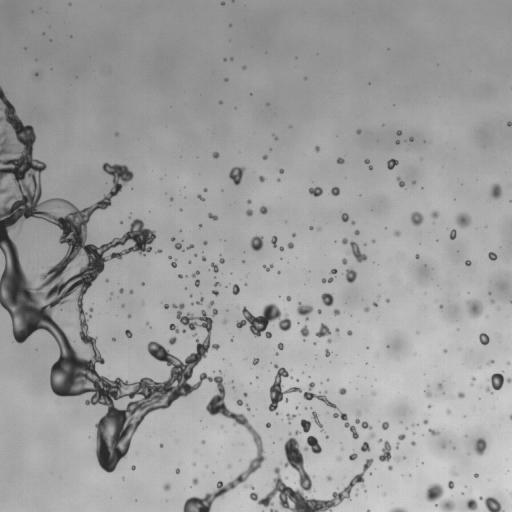droplet: (249, 436, 373, 511), (236, 303, 291, 338), (268, 364, 302, 413), (426, 483, 455, 511), (300, 411, 323, 432), (486, 373, 511, 392), (479, 496, 504, 511), (303, 436, 321, 453), (466, 300, 482, 318), (229, 167, 244, 185), (297, 302, 312, 320), (474, 438, 486, 455), (456, 213, 470, 227), (316, 323, 330, 337), (250, 236, 263, 250), (490, 183, 501, 199), (411, 211, 423, 225), (321, 293, 333, 306), (466, 499, 477, 511), (346, 269, 356, 282), (308, 187, 322, 196), (387, 158, 398, 169), (479, 333, 489, 345), (300, 325, 309, 337), (169, 323, 179, 333), (360, 441, 370, 451), (232, 284, 239, 295), (488, 252, 497, 260), (286, 414, 295, 422), (449, 229, 456, 239), (263, 264, 273, 271), (271, 236, 277, 247), (331, 187, 339, 195), (259, 206, 267, 214), (381, 421, 389, 429), (397, 178, 404, 187), (341, 213, 348, 222), (211, 263, 218, 272), (429, 429, 439, 435), (125, 329, 132, 337), (168, 337, 176, 344), (349, 453, 357, 460), (431, 211, 438, 218), (252, 358, 259, 365), (368, 432, 375, 439), (163, 483, 170, 490), (336, 157, 344, 163), (448, 481, 454, 489), (212, 152, 219, 158), (246, 209, 252, 216), (174, 243, 181, 249), (171, 260, 177, 267), (330, 269, 337, 275), (192, 271, 199, 277), (333, 309, 340, 315), (277, 342, 283, 349), (339, 388, 346, 394), (424, 391, 431, 397), (458, 392, 465, 398), (236, 399, 243, 405), (398, 434, 405, 440), (287, 242, 293, 248), (465, 260, 471, 266), (192, 478, 198, 484), (212, 308, 217, 315), (325, 349, 330, 356), (259, 176, 264, 182), (394, 231, 400, 236), (342, 238, 347, 244), (187, 244, 193, 249), (342, 258, 347, 264), (212, 290, 218, 295), (208, 301, 213, 307), (245, 404, 250, 410), (195, 279, 199, 286), (396, 130, 401, 135), (219, 258, 224, 263), (286, 296, 291, 301), (347, 330, 352, 335), (214, 282, 220, 286), (356, 129, 361, 133), (315, 146, 319, 151), (355, 230, 359, 235), (156, 249, 161, 253), (119, 288, 123, 293), (364, 307, 369, 311), (335, 328, 339, 333), (488, 360, 493, 364), (438, 383, 442, 388), (266, 422, 270, 427), (131, 465, 135, 470), (388, 465, 392, 470), (326, 476, 331, 480), (0, 189, 6, 192), (507, 122, 511, 126), (409, 137, 413, 141), (263, 155, 267, 159), (279, 169, 283, 173), (247, 199, 251, 203), (202, 257, 206, 261), (178, 274, 182, 278), (373, 302, 377, 306), (164, 304, 168, 308), (317, 309, 321, 313), (223, 319, 227, 323), (327, 339, 331, 343), (243, 392, 247, 396), (423, 420, 427, 424), (411, 441, 415, 445), (474, 473, 478, 477), (396, 443, 399, 448), (396, 140, 399, 144), (491, 299, 494, 303), (472, 377, 475, 381), (446, 410, 450, 413), (295, 431, 299, 434), (176, 469, 179, 473), (221, 2, 224, 5), (274, 136, 277, 139), (351, 221, 354, 224), (171, 237, 174, 240), (280, 247, 283, 250), (416, 255, 419, 258), (129, 290, 132, 293), (89, 308, 92, 311), (202, 440, 205, 443), (397, 457, 400, 460), (509, 415, 511, 419), (35, 73, 38, 75), (225, 78, 227, 81), (204, 188, 206, 191), (170, 198, 173, 200), (310, 226, 312, 229), (292, 234, 295, 236), (204, 241, 206, 244), (277, 271, 280, 273), (141, 283, 144, 285), (440, 305, 442, 308), (182, 330, 185, 332), (193, 334, 196, 336), (112, 338, 115, 340), (444, 349, 446, 352), (326, 435, 328, 438), (160, 444, 163, 446), (338, 457, 340, 460), (228, 465, 231, 467), (243, 67, 245, 69), (413, 181, 415, 183), (199, 224, 201, 226), (318, 228, 320, 230), (195, 254, 197, 256), (106, 279, 108, 281), (244, 283, 246, 285), (488, 292, 490, 294), (386, 299, 388, 301), (128, 315, 130, 317), (428, 405, 430, 407), (413, 423, 415, 425), (193, 463, 195, 465)
ligament: (0, 87, 265, 511), (303, 382, 358, 439), (350, 241, 366, 262), (378, 439, 391, 462), (355, 411, 371, 429), (364, 159, 372, 169), (389, 507, 407, 511), (208, 213, 217, 220), (322, 277, 333, 282), (197, 194, 204, 201), (197, 298, 203, 304), (366, 510, 370, 511)
